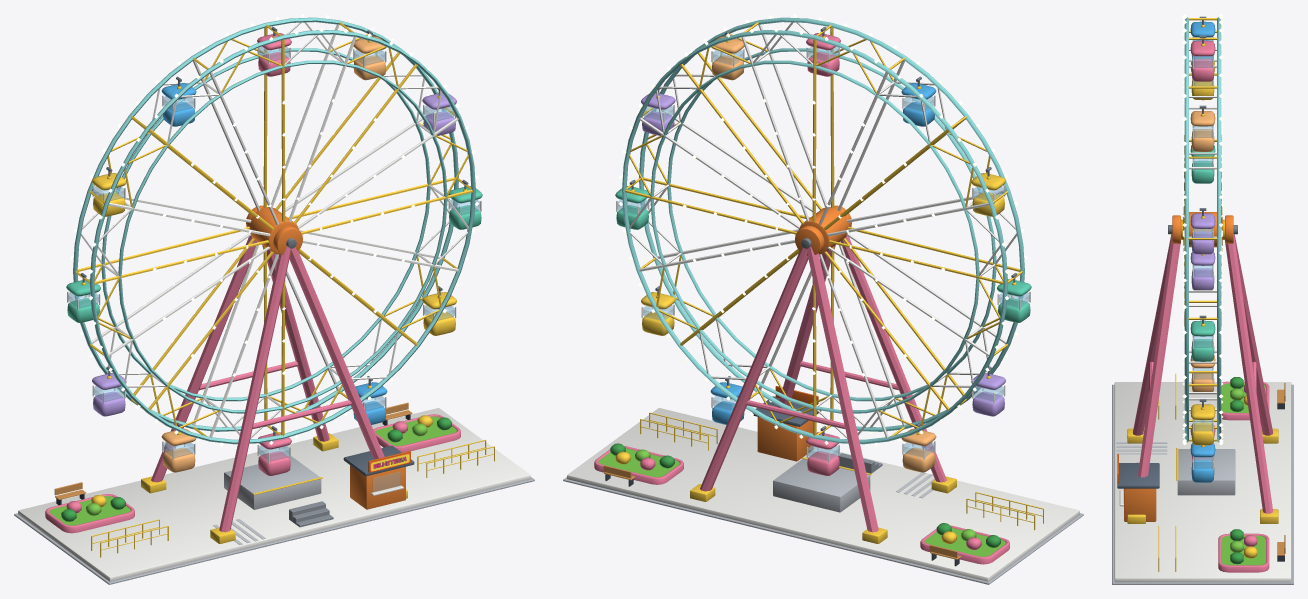
Rendered from roda_gigante.glb.
3 views of the same model, side by side, from view 1: azimuth 30°, elevation 25°; view 2: azimuth 150°, elevation 25°; view 3: azimuth 270°, elevation 25° (orthographic). The views are drawn at different scales.
Visible parts, largest first — view 1: roda_gigante, roda, cabine_12, cabine_11, cabine_1, cabine_10, cabine_3, cabine_6, cabine_9, cabine_8, cabine_4, cabine_5 (+4 smaller); view 2: roda_gigante, roda, cabine_12, cabine_11, cabine_1, cabine_10, cabine_3, cabine_6, cabine_9, cabine_8, cabine_4, cabine_5 (+4 smaller); view 3: roda_gigante, roda, cabine_3, cabine_7, cabine_4, cabine_6, cabine_5, cabine_2, cabine_11, lampadas_a, lampadas_b, cabine_10 (+3 smaller).
Boxes of the visible parts, x1,y1,x2,y2 form: roda_gigante: [14, 205, 534, 584]; roda: [73, 17, 475, 444]; cabine_12: [161, 422, 196, 472]; cabine_11: [92, 366, 126, 416]; cabine_1: [257, 426, 291, 475]; cabine_10: [66, 273, 100, 322]; cabine_3: [422, 286, 456, 335]; cabine_6: [353, 30, 386, 80]; cabine_9: [92, 167, 126, 216]; cabine_8: [161, 76, 196, 126]; cabine_4: [448, 179, 482, 229]; cabine_5: [422, 88, 456, 135]; roda_gigante: [563, 205, 1083, 584]; roda: [622, 17, 1024, 444]; cabine_12: [901, 422, 936, 472]; cabine_11: [971, 366, 1005, 416]; cabine_1: [806, 426, 839, 475]; cabine_10: [997, 273, 1031, 322]; cabine_3: [641, 286, 675, 335]; cabine_6: [711, 30, 744, 80]; cabine_9: [971, 167, 1005, 216]; cabine_8: [901, 76, 936, 126]; cabine_4: [615, 179, 649, 229]; cabine_5: [641, 88, 675, 135]; roda_gigante: [1112, 215, 1293, 584]; roda: [1181, 17, 1224, 442]; cabine_3: [1190, 399, 1215, 445]; cabine_7: [1190, 35, 1215, 81]; cabine_4: [1190, 315, 1215, 361]; cabine_6: [1190, 105, 1215, 151]; cabine_5: [1190, 208, 1215, 254]; cabine_2: [1190, 443, 1215, 482]; cabine_11: [1190, 252, 1215, 290]; lampadas_a: [1182, 15, 1223, 442]; lampadas_b: [1182, 14, 1223, 445]; cabine_10: [1190, 145, 1215, 183].
Bounding box in the file's own units: 27.7 × 29.3 × 10.7.
4 materials, 2 textured.
